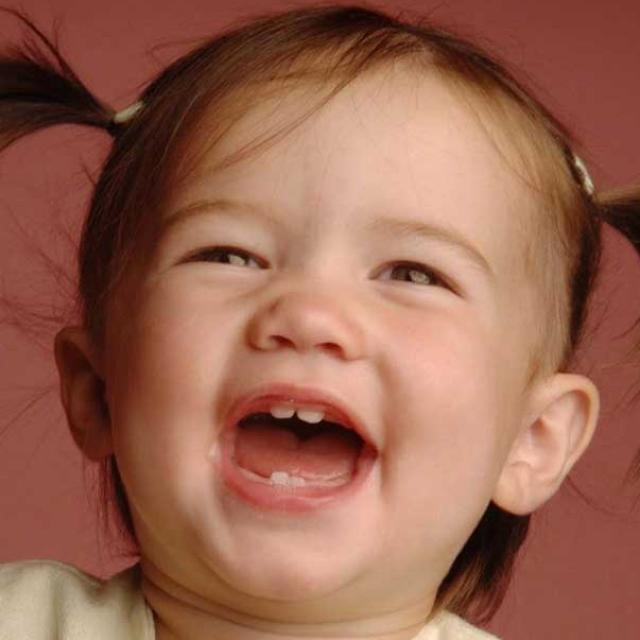Normal: (108, 4, 552, 609)
